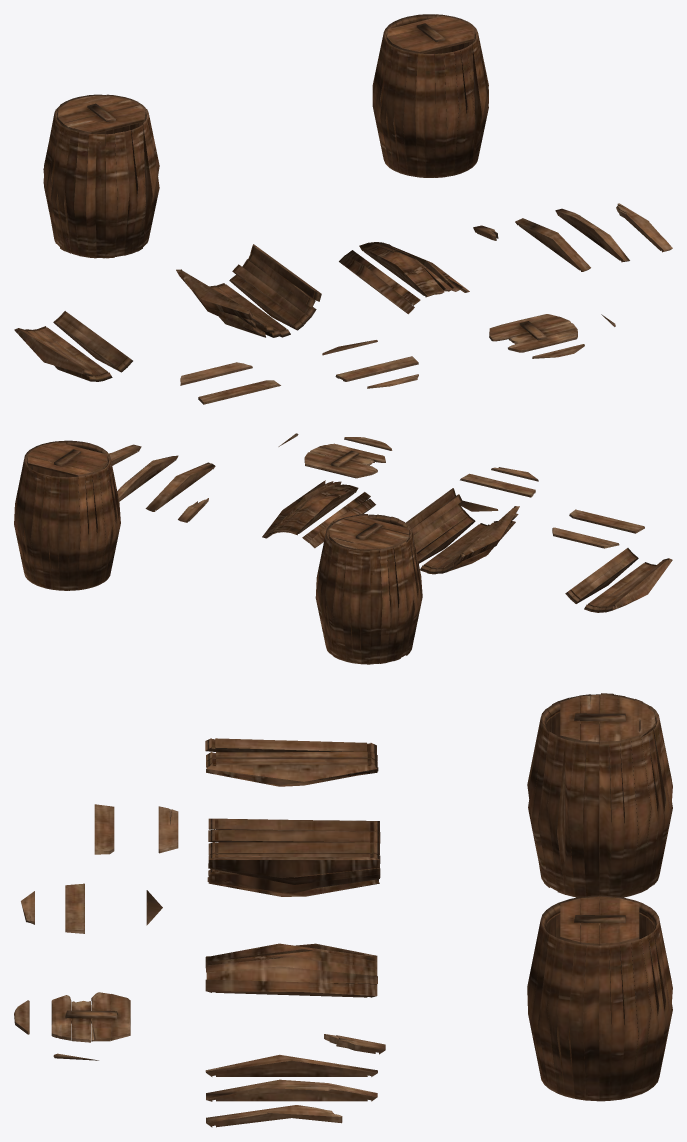
Rendered from tonneaux.glb.
The picture shows the model from 3 angles, top to bottom: view 1: azimuth 30°, elevation 25°; view 2: azimuth 150°, elevation 25°; view 3: azimuth 270°, elevation 25°; orthographic projection. The views are drawn at different scales.
Visible parts, largest first — view 1: wooden_barrels_01_piece01, wooden_barrels_01_barrel01, wooden_barrels_01_barrel02; view 2: wooden_barrels_01_piece01, wooden_barrels_01_barrel01, wooden_barrels_01_barrel02; view 3: wooden_barrels_01_piece01, wooden_barrels_01_barrel01, wooden_barrels_01_barrel02.
Part boxes in pixels (x1,y1,x2,y2): wooden_barrels_01_piece01: (14,203,672,404); wooden_barrels_01_barrel01: (372,14,488,177); wooden_barrels_01_barrel02: (43,94,159,258); wooden_barrels_01_piece01: (109,433,672,612); wooden_barrels_01_barrel01: (14,440,120,590); wooden_barrels_01_barrel02: (315,514,422,664); wooden_barrels_01_piece01: (14,738,385,1127); wooden_barrels_01_barrel01: (527,895,672,1101); wooden_barrels_01_barrel02: (527,693,672,897).
Bounding box in the file's own units: 4.37 × 0.9232 × 3.34.
Materials: 3 (3 with a texture image).
